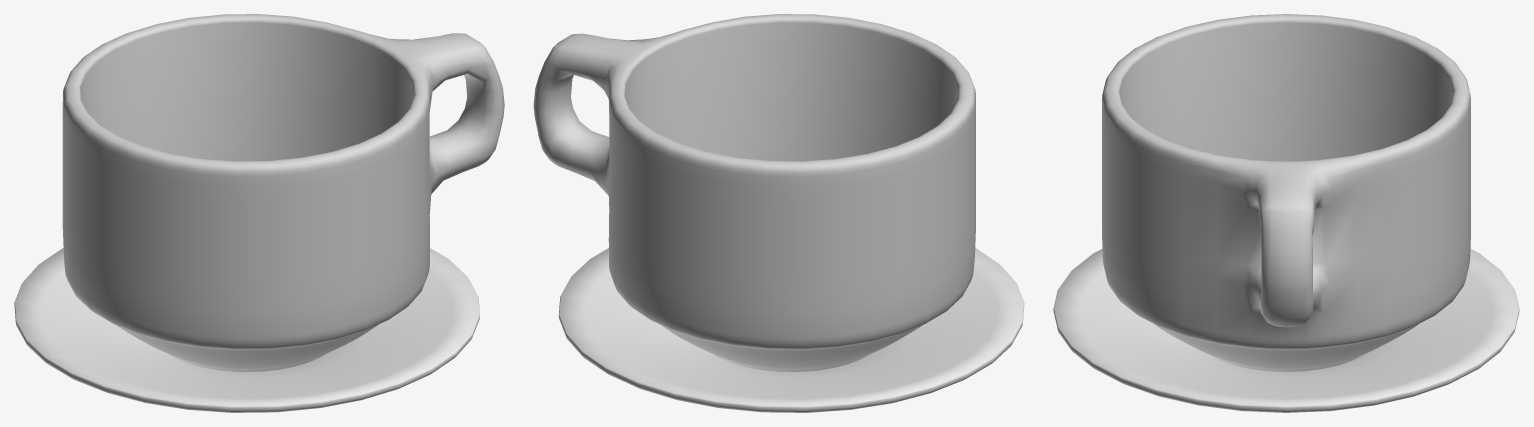
Rendered from cup.fbx.
3 views of the same model, side by side, from view 1: azimuth 30°, elevation 25°; view 2: azimuth 150°, elevation 25°; view 3: azimuth 270°, elevation 25° (orthographic).
Visible parts, largest first — view 1: Cylinder, low_poly; view 2: Cylinder, low_poly; view 3: Cylinder, low_poly.
Boxes of the visible parts, bbox=[...] form: Cylinder: bbox=[62, 14, 504, 369]; low_poly: bbox=[14, 248, 479, 412]; Cylinder: bbox=[533, 14, 975, 369]; low_poly: bbox=[558, 248, 1024, 412]; Cylinder: bbox=[1102, 14, 1470, 369]; low_poly: bbox=[1053, 249, 1519, 412].
Size of the model in its own units: 274 by 150 by 244.
Materials: 2 (1 with a texture image).
